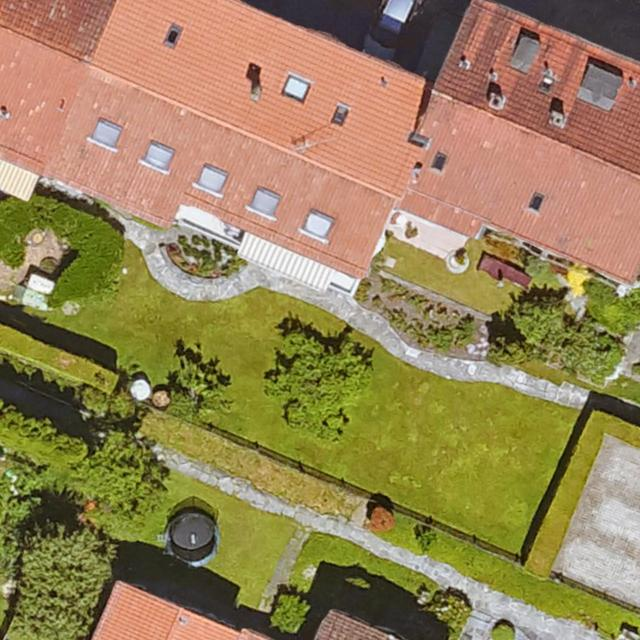tree: (15, 523, 109, 635), (268, 332, 371, 434), (77, 431, 165, 516), (513, 297, 572, 349)
